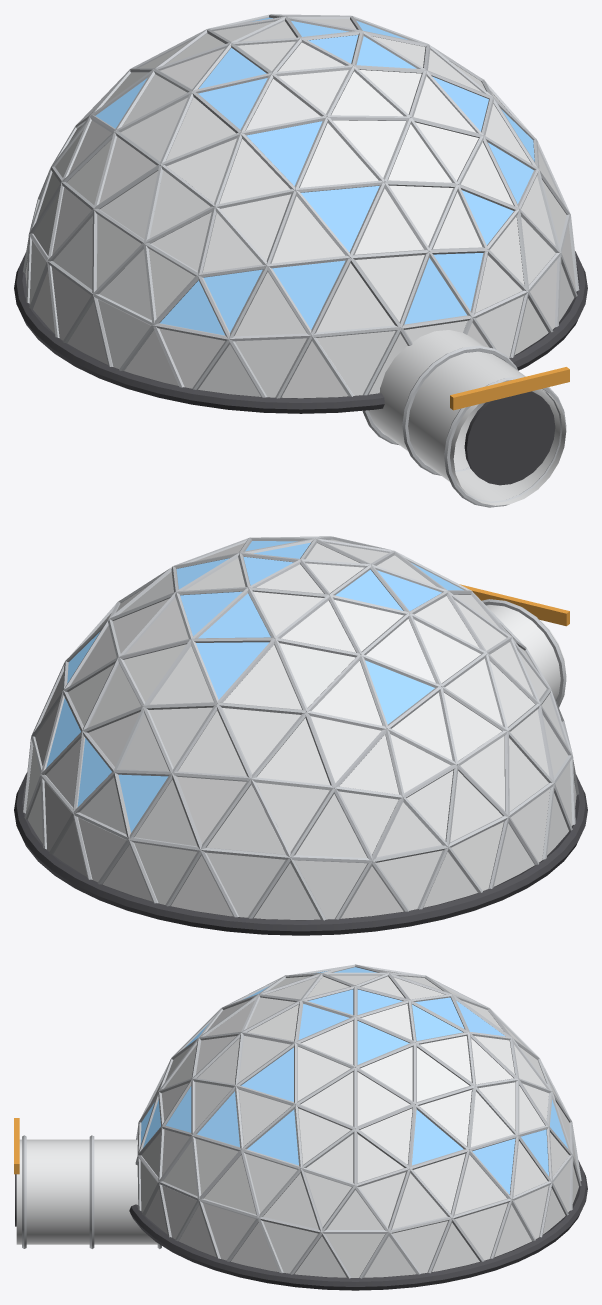
The model's file is Dome.fbx.
The picture shows the model from 3 angles, top to bottom: view 1: azimuth 30°, elevation 25°; view 2: azimuth 150°, elevation 25°; view 3: azimuth 270°, elevation 25°; orthographic projection. The views are drawn at different scales.
Visible parts, largest first — view 1: Dome; view 2: Dome; view 3: Dome.
Part boxes in pixels (x1,y1,x2,y2): Dome: (14,14,587,507); Dome: (14,536,587,935); Dome: (14,964,587,1290).
Size of the model in its own units: 12.36 by 7.58 by 15.25.
